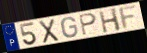5: (18, 21, 38, 46)
F: (118, 4, 138, 31)
G: (60, 16, 79, 39)
H: (98, 7, 123, 34)
P: (78, 13, 98, 37)
X: (38, 18, 60, 45)
